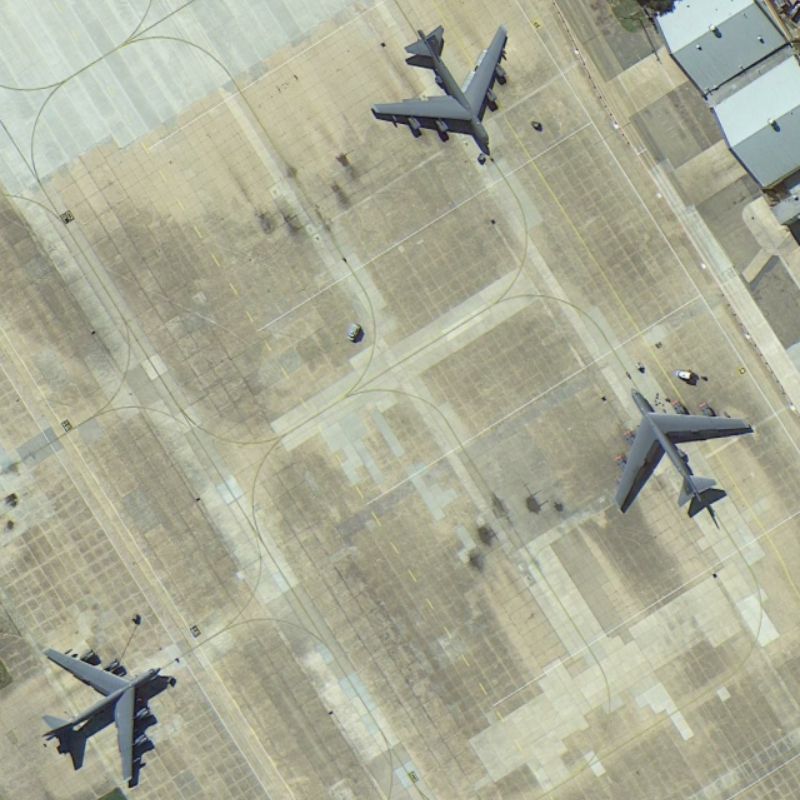A8: (611, 379, 759, 527), (368, 16, 519, 158), (35, 641, 173, 791)
